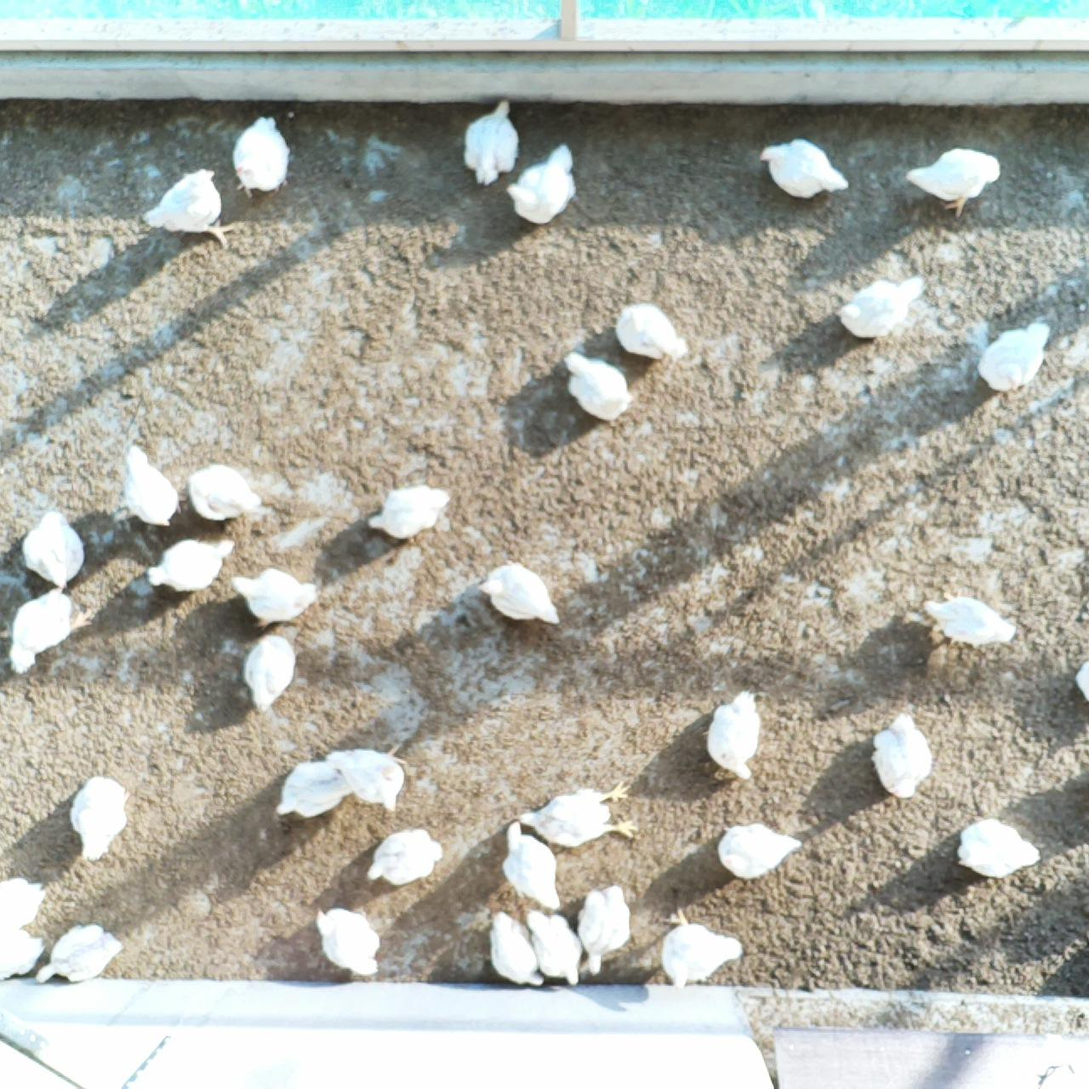chicken: (510, 777, 643, 854), (140, 163, 240, 254), (4, 585, 95, 678), (656, 903, 747, 992), (902, 141, 1004, 218), (832, 271, 930, 348), (326, 740, 419, 818), (701, 684, 769, 786), (868, 708, 939, 804), (953, 812, 1046, 884), (505, 140, 582, 226), (227, 565, 324, 633), (498, 815, 565, 913), (974, 316, 1055, 396), (31, 922, 129, 988), (67, 770, 137, 862), (313, 899, 391, 981), (141, 534, 242, 597), (459, 93, 523, 192), (474, 552, 559, 626), (361, 821, 448, 893), (113, 439, 180, 532), (757, 135, 851, 201), (917, 592, 1022, 649), (230, 108, 295, 200), (575, 881, 636, 979), (19, 506, 90, 590), (518, 902, 585, 991), (712, 819, 807, 880), (184, 459, 268, 527), (559, 348, 634, 423), (364, 478, 458, 537), (238, 634, 304, 718), (273, 757, 351, 826), (613, 297, 693, 364), (486, 907, 549, 989), (0, 875, 51, 930), (0, 927, 48, 984)
